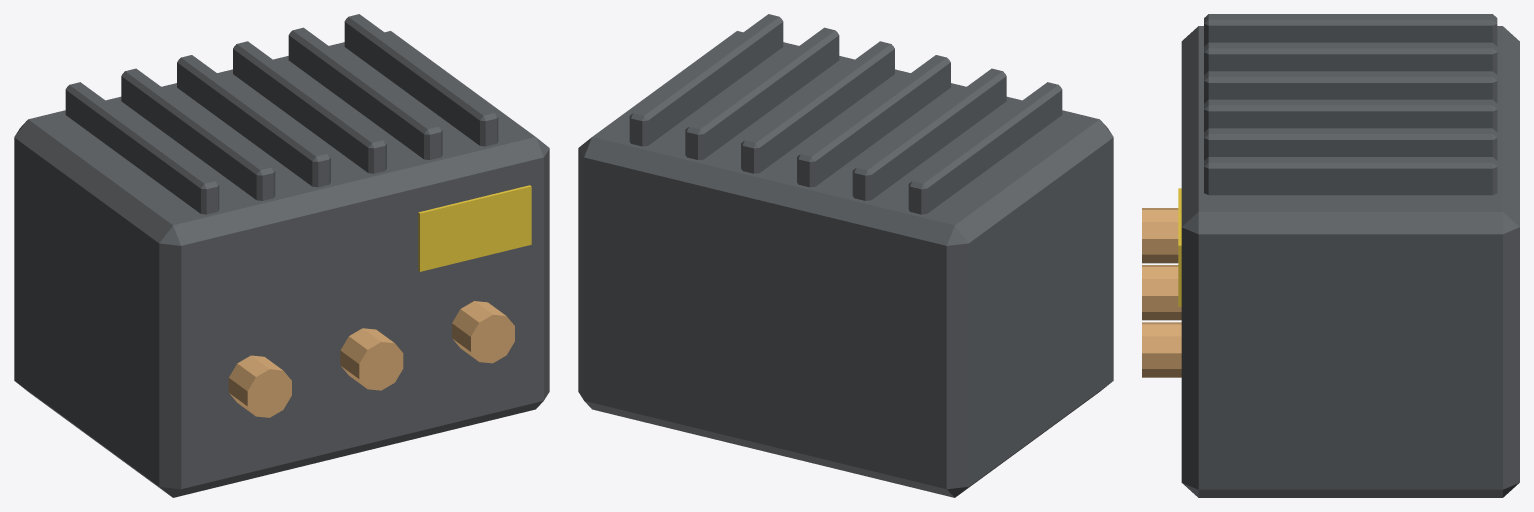
The model's file is salvage_relay.glb.
3 views of the same model, side by side, from view 1: azimuth 30°, elevation 25°; view 2: azimuth 150°, elevation 25°; view 3: azimuth 270°, elevation 25° (orthographic). The views are drawn at different scales.
Visible parts, largest first — view 1: salvage_relay; view 2: salvage_relay; view 3: salvage_relay.
Boxes of the visible parts, left/top/right/bottom form: salvage_relay: left=14, top=14, right=549, bottom=497; salvage_relay: left=578, top=14, right=1113, bottom=497; salvage_relay: left=1142, top=14, right=1519, bottom=497.
Bounding box in the file's own units: 0.42 × 0.31 × 0.335.
